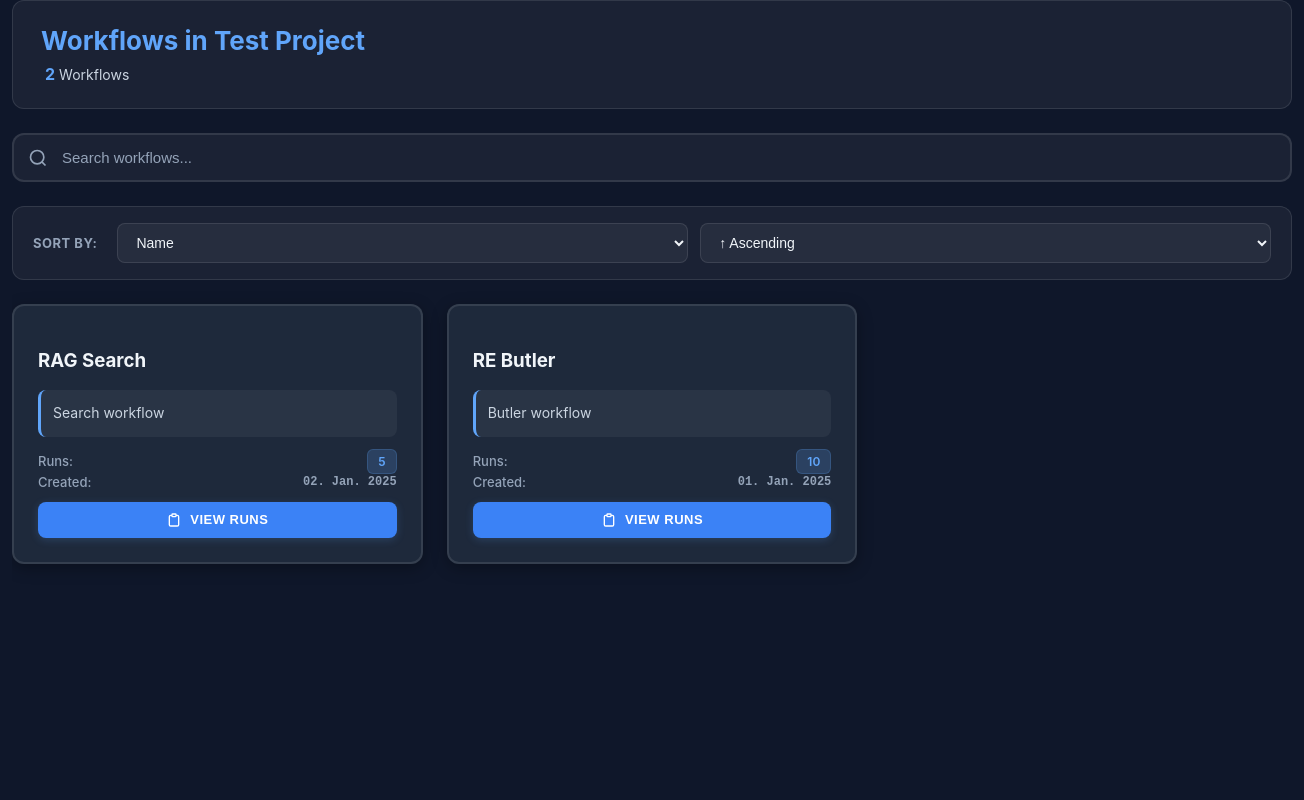
Scenario: WorkflowsOverview › should filter workflows by search query
The width and height of the screenshot is (1304, 800).
Type "Butler" into the field with placeholder "Search workflows...".
click(652, 158); type("Butler")  # box [12, 133, 1292, 182]
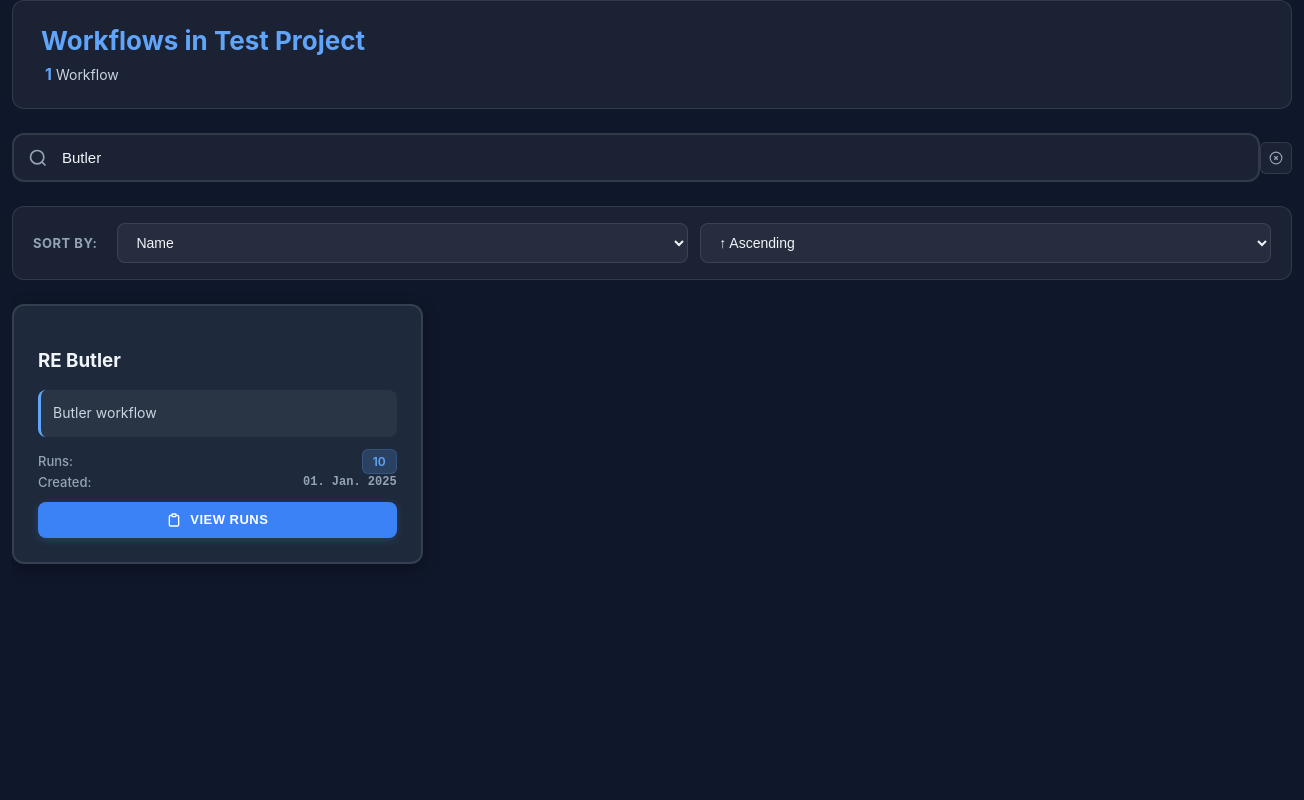
Expected: the heading "RE Butler" is shown, [38, 349, 121, 372]
Expected: the heading "RAG Search" is gone
